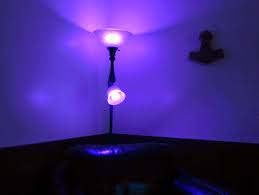bulb: (107, 91, 126, 104)
